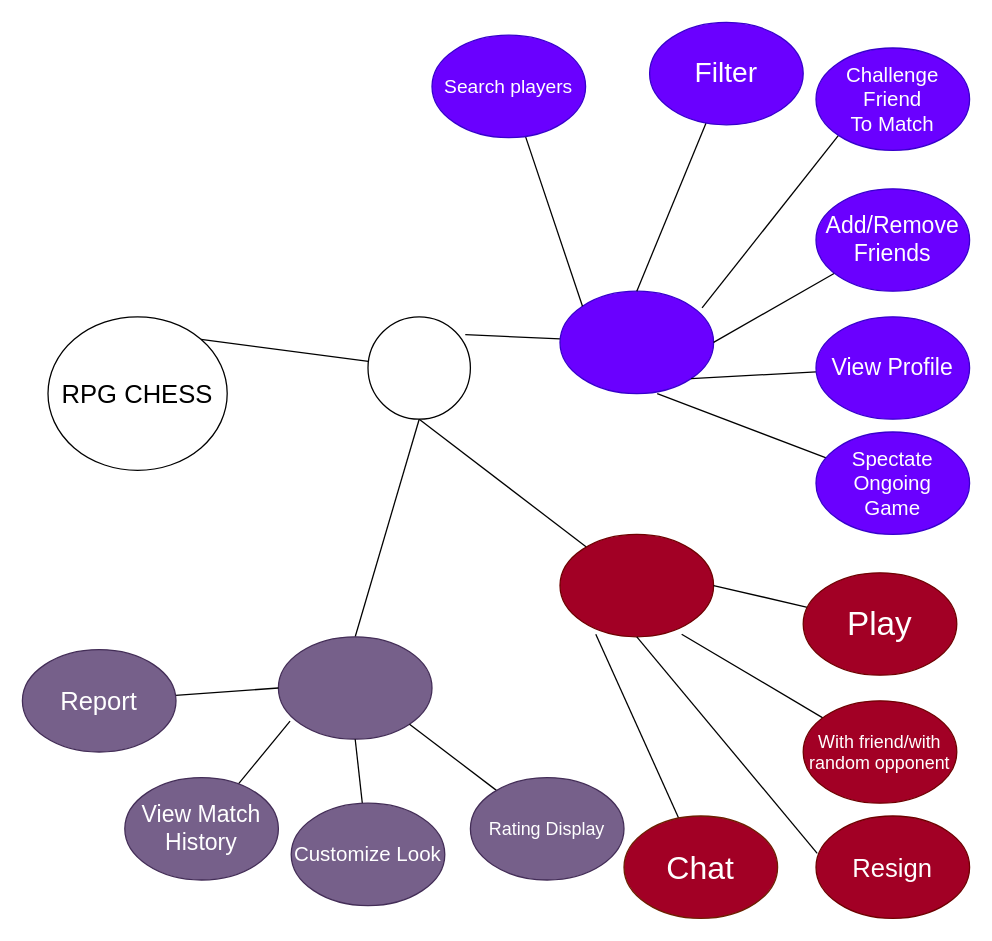
Image size: 992x941. Some labels were removed from this diagram. Here are the shapes that lost their labels. From the top down, the centre of each, then its label:
point 636,342: Friends
point 418,367: Player
point 636,585: Game
point 354,687: Profile
